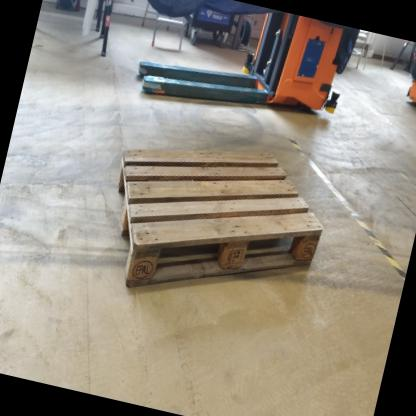BoxFace: (114, 144, 328, 292)
